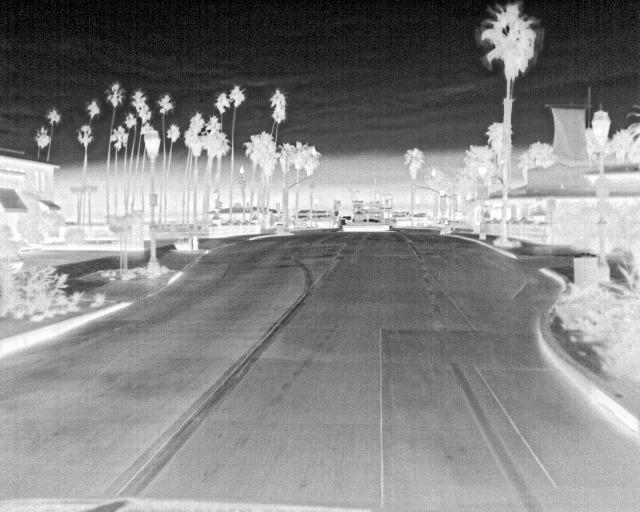light: (440, 196, 446, 210), (310, 175, 315, 188), (412, 183, 416, 193), (218, 202, 222, 210), (276, 203, 280, 211), (240, 177, 243, 185), (246, 203, 249, 210), (243, 181, 246, 187)
sign: (547, 197, 556, 211), (476, 186, 487, 196), (476, 196, 488, 201), (335, 211, 338, 216)
